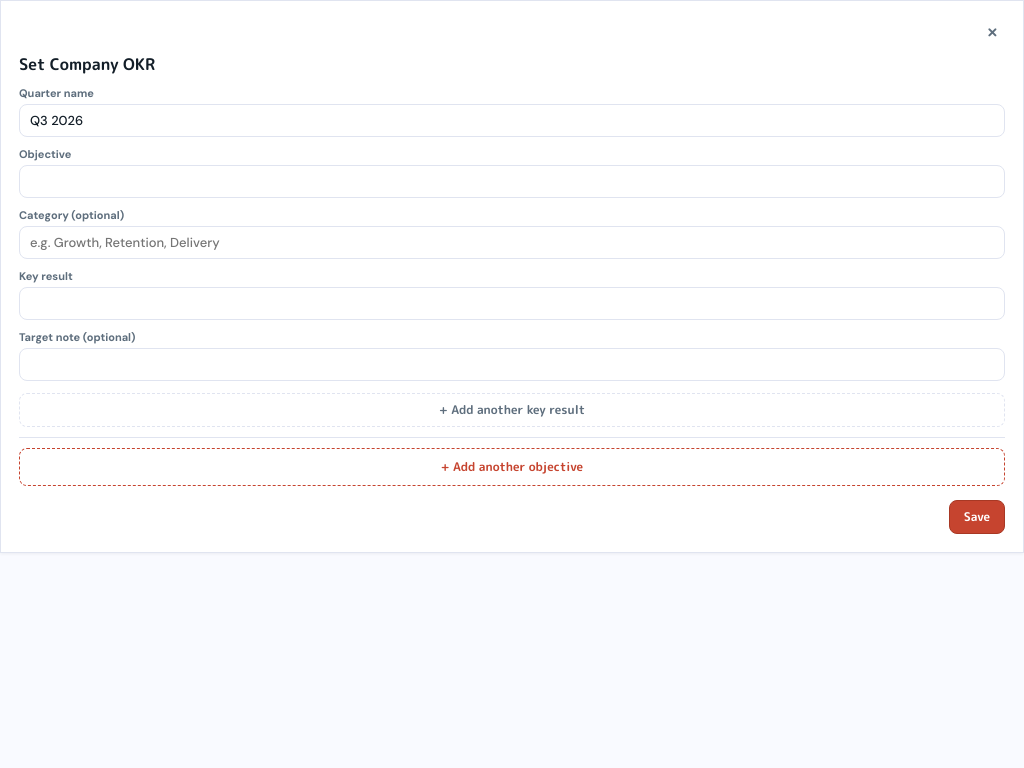
Test case: CompanyOkrDialog › blocks save when the objective has no title
What coordinates should you click on to do the following:
click the button "Save"
I would click on:
 (977, 517)
Its box is [949,500,1005,534].
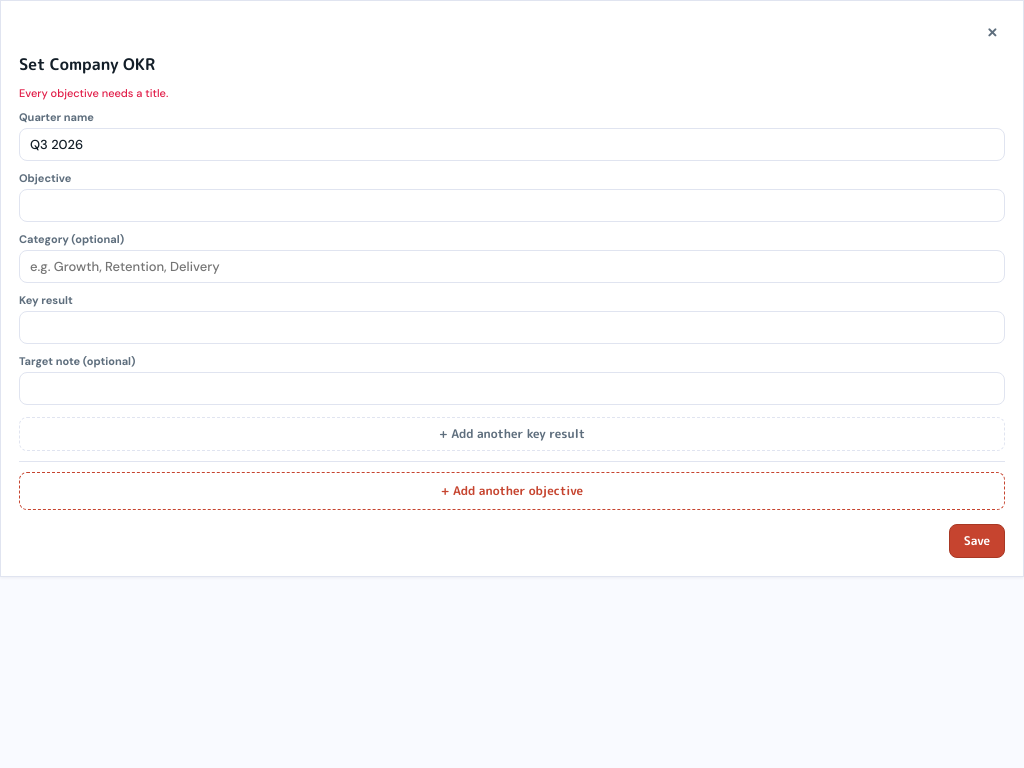
Expected: the message shows "needs a title", [19,86,168,100]
